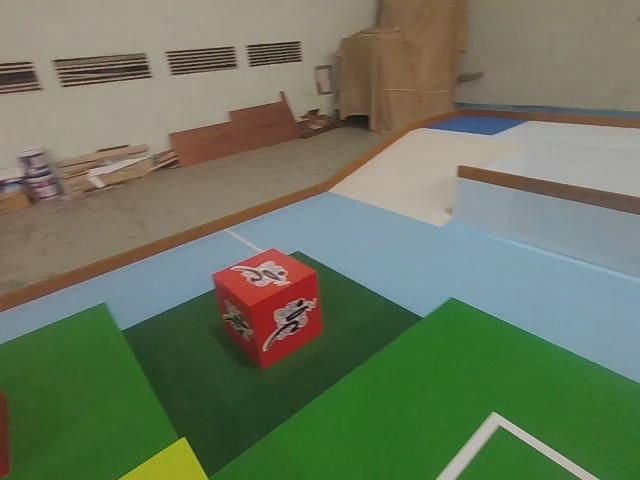R1: (210, 247, 324, 373)
